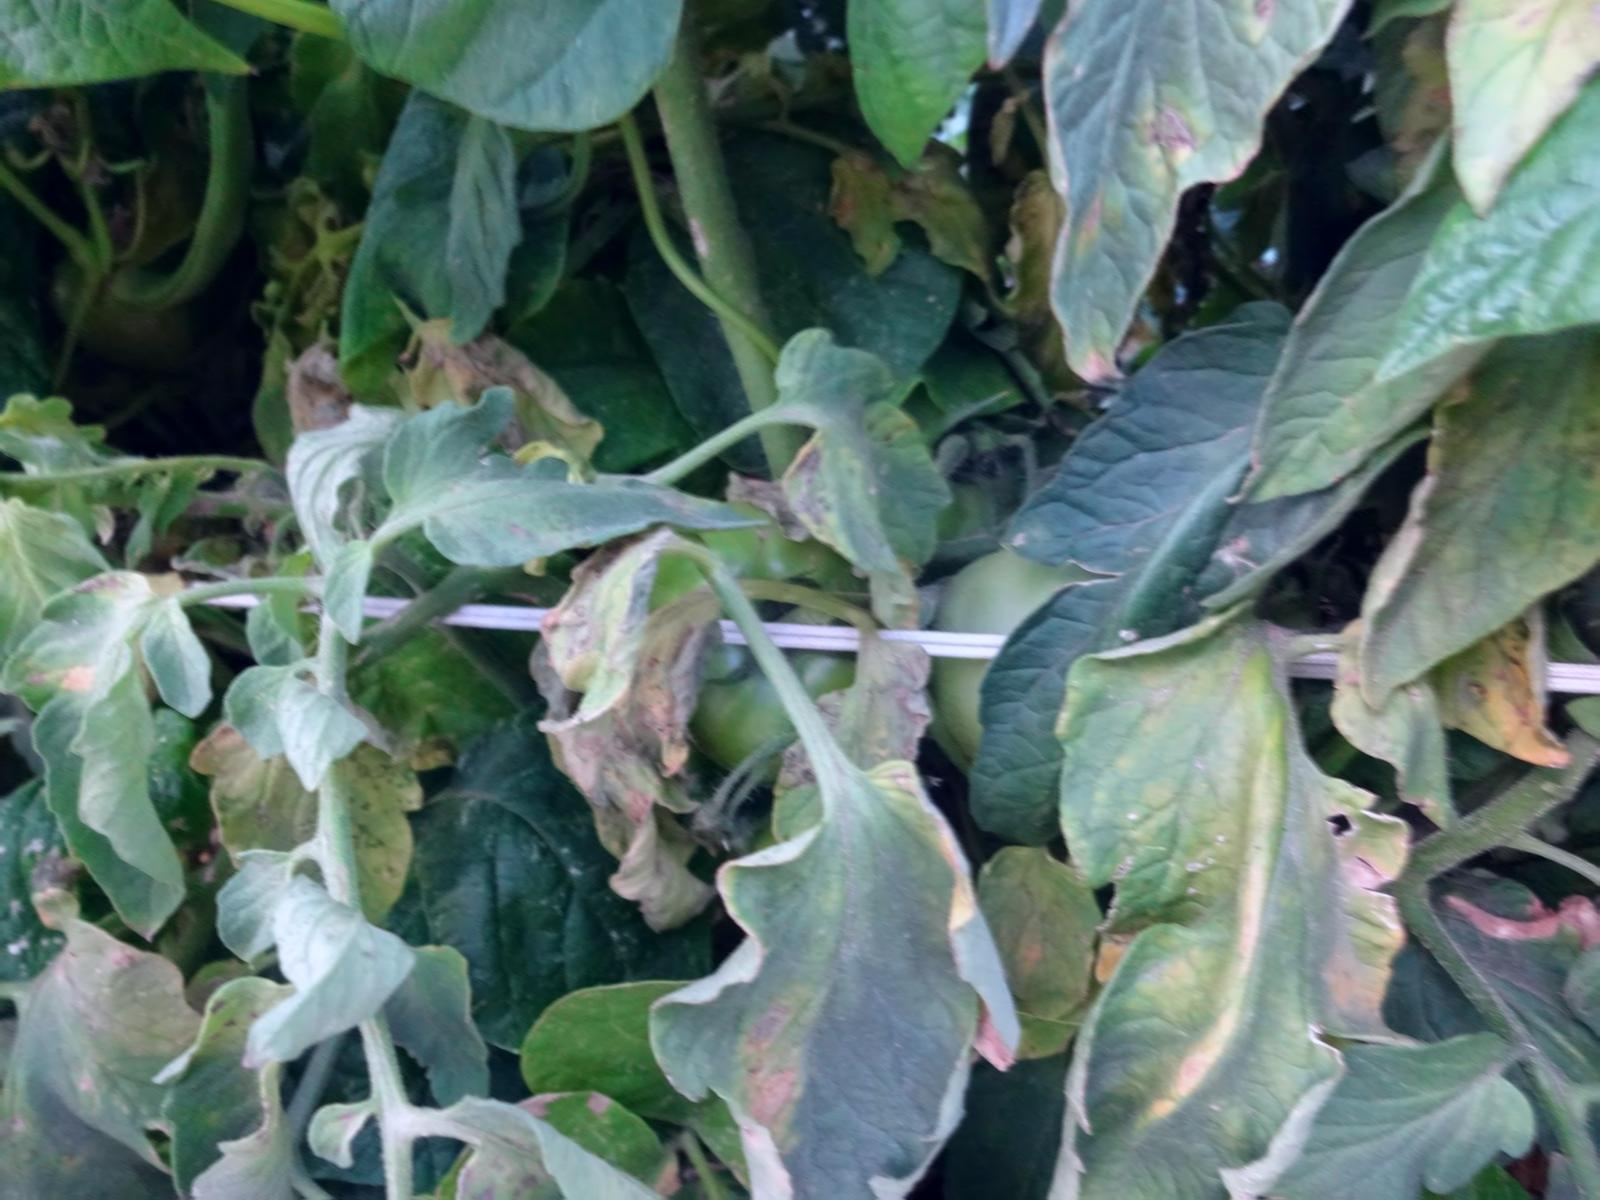Tomato leaf late blight: (656, 711, 1012, 1200), (990, 3, 1401, 405), (0, 546, 218, 971), (368, 376, 769, 566), (756, 316, 959, 611)
